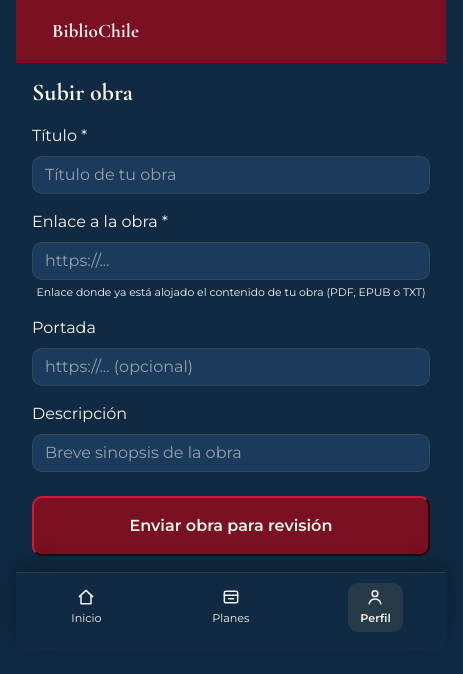
SubirObra › valida que el enlace a la obra sea una URL antes de enviar
Expected: the heading "Subir obra" is shown, [32, 78, 133, 107]
In the field labelled "Título *": (231, 175) [32, 156, 430, 194], type "Mi obra"
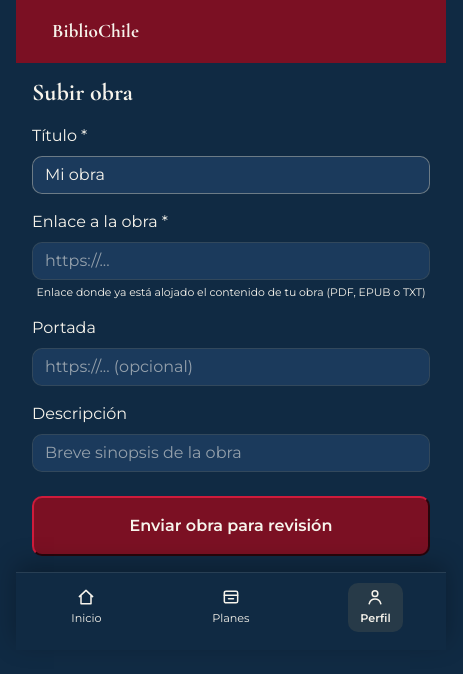
In the field labelled "Enlace a la obra *": (231, 261) [32, 242, 430, 280], type "no-es-una-url"
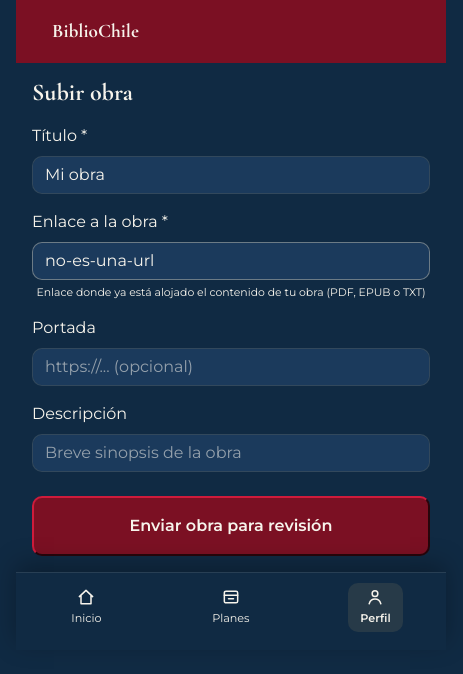
Click the button "Enviar obra para revisión": (231, 526) [32, 496, 430, 556]
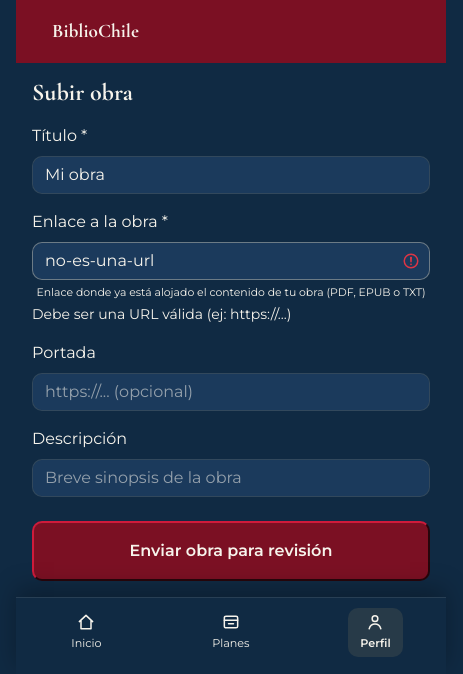
Expected: the text "Debe ser una URL válida (ej: https://...)" is shown, [32, 305, 291, 323]
